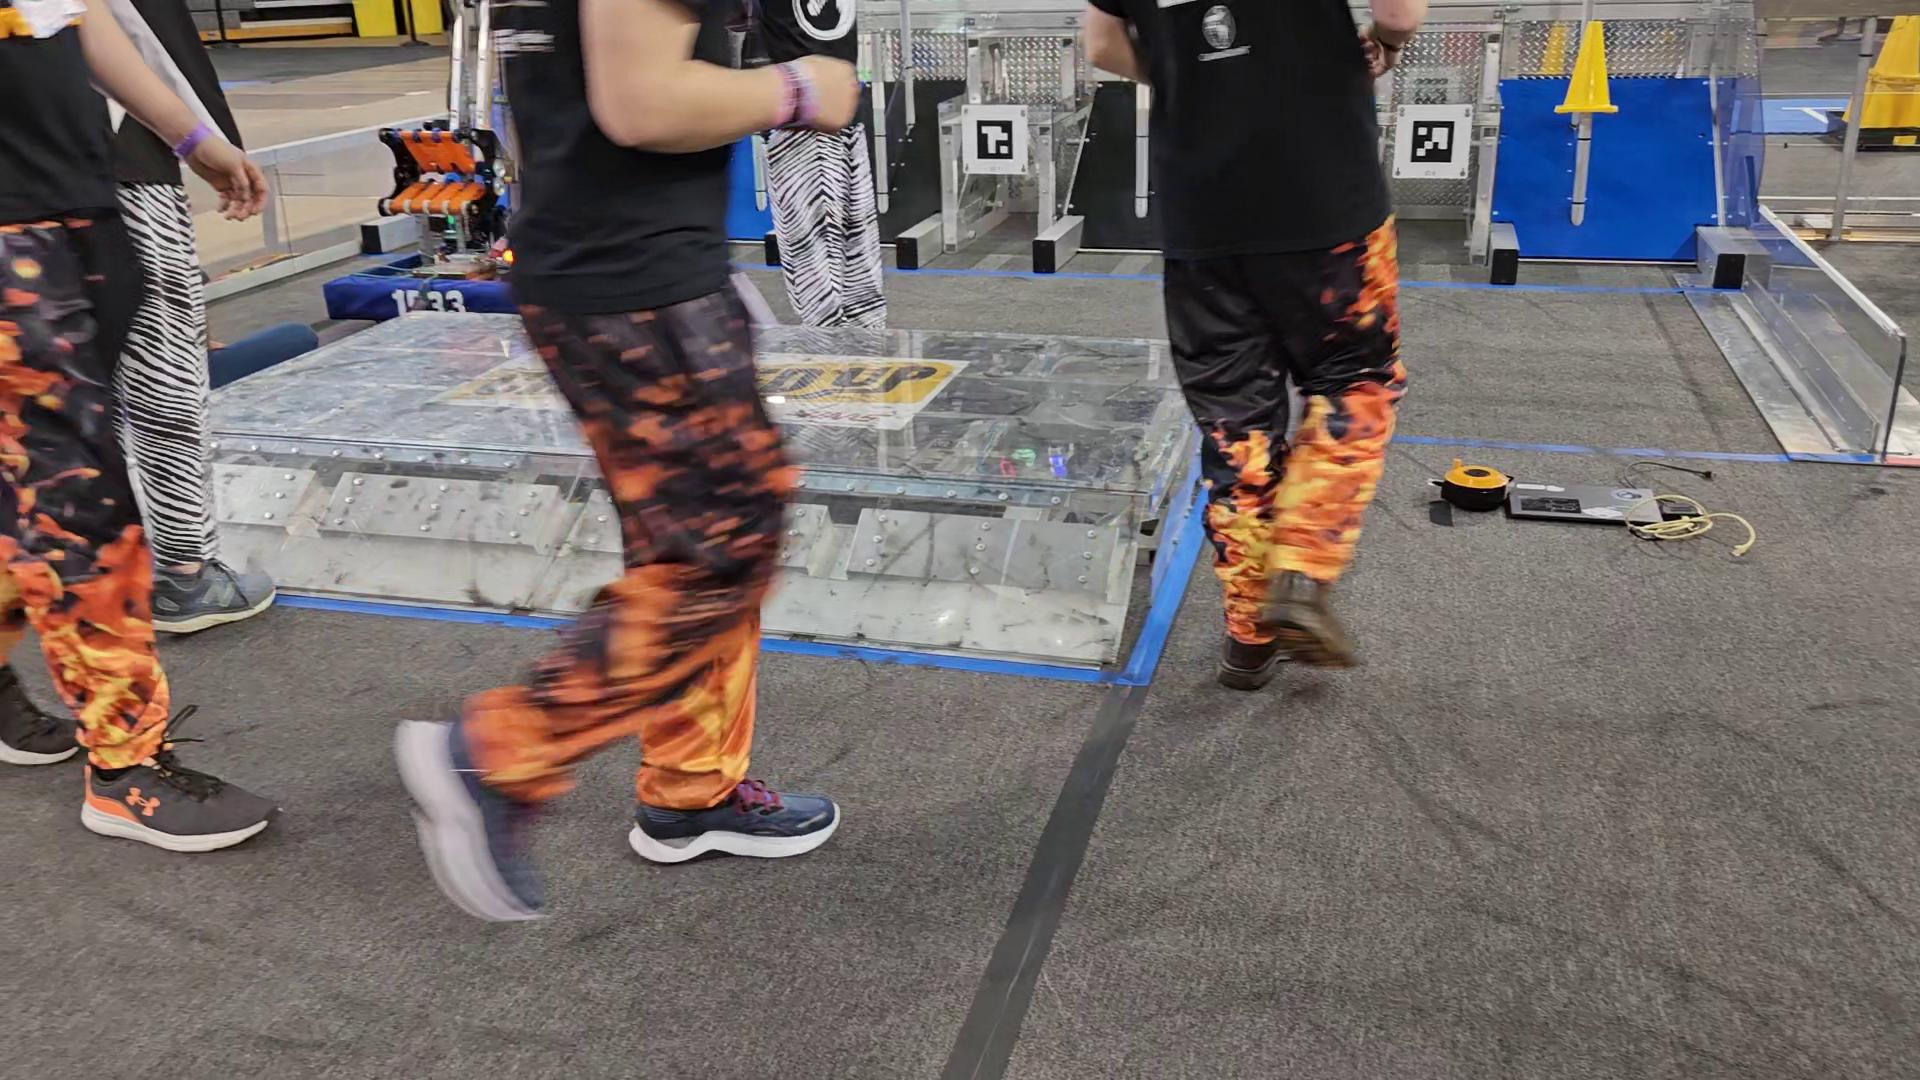robot: (324, 119, 539, 327)
